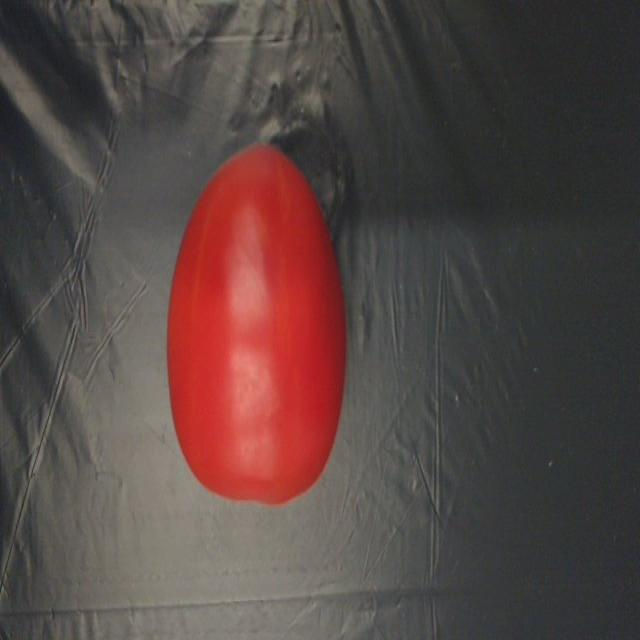kirmizi: (160, 133, 353, 528)
